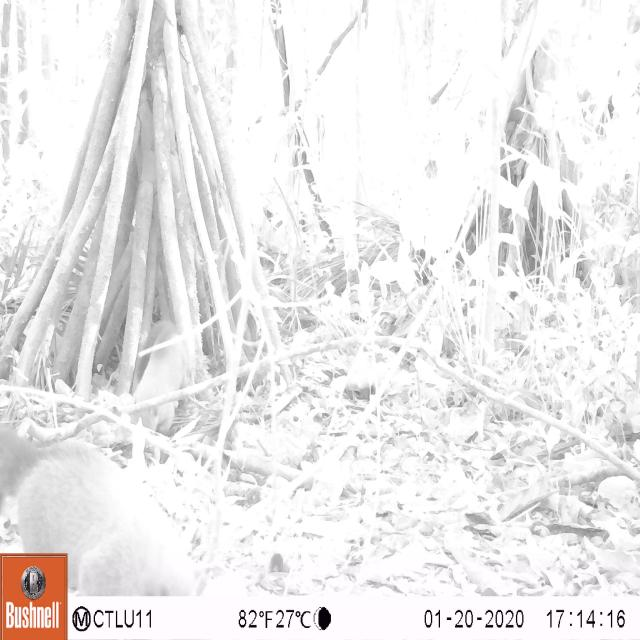South American Coati: (0, 426, 226, 601), (118, 303, 194, 431)
